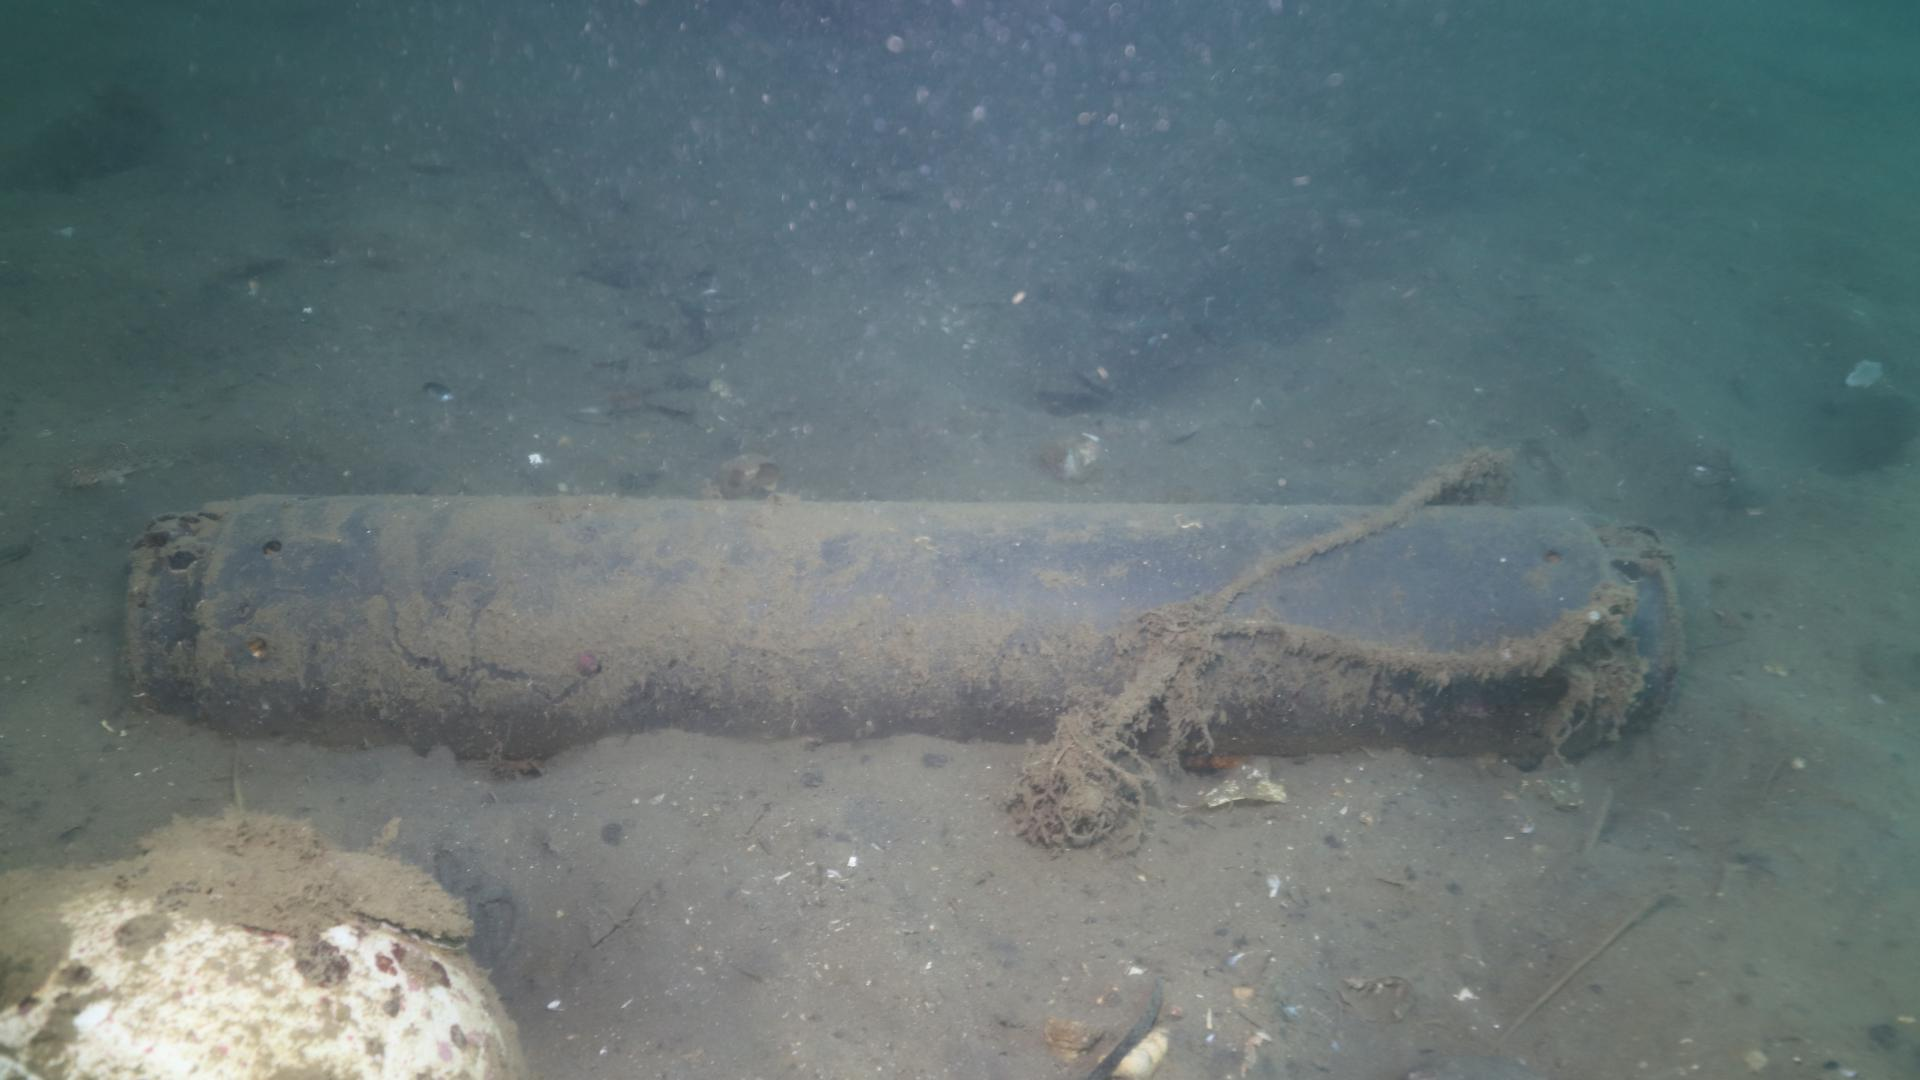bundle of ropes: (1091, 450, 1625, 727)
eel fish trap: (115, 489, 1679, 750)
